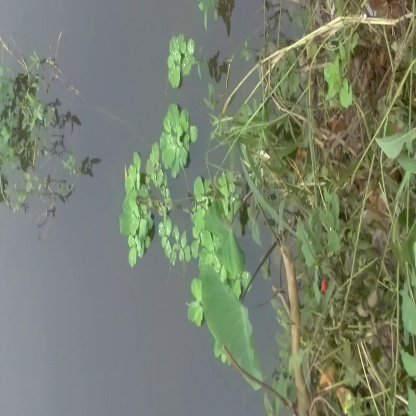leaf: (116, 153, 155, 262), (164, 30, 203, 87)
